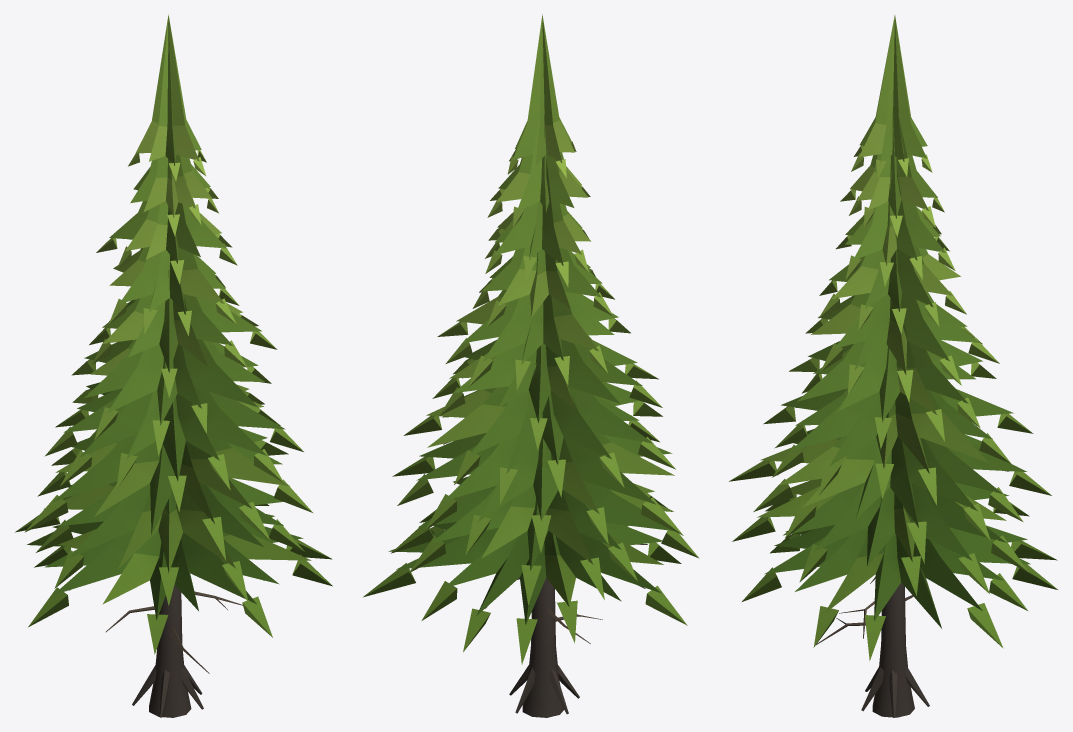
The model's file is Larch_A.fbx.
The picture shows the model from 3 angles, left to right: view 1: azimuth 30°, elevation 25°; view 2: azimuth 150°, elevation 25°; view 3: azimuth 270°, elevation 25°; orthographic projection.
Parts seen in each view (by area): view 1: Larch_A_LOD0; view 2: Larch_A_LOD0; view 3: Larch_A_LOD0.
Part boxes in pixels (bbox=[...]): Larch_A_LOD0: bbox=[15, 14, 332, 717]; Larch_A_LOD0: bbox=[363, 14, 699, 717]; Larch_A_LOD0: bbox=[729, 15, 1057, 717].
Size of what is drawn, in the model's own units: 6.89 by 15.5 by 6.69.
Materials: 1 (1 with a texture image).
